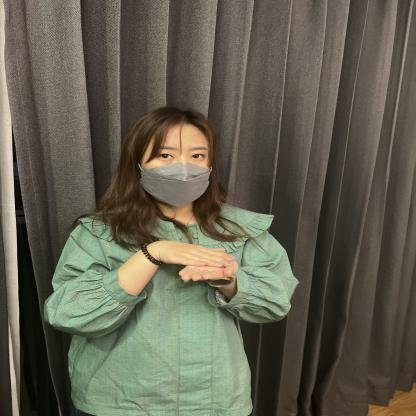Love: (76, 180, 359, 326)
